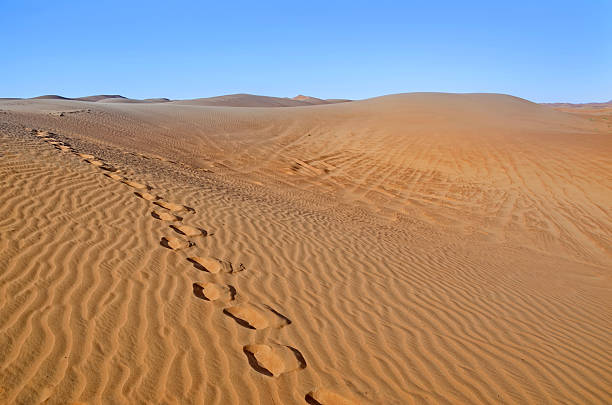human_foot_print: (243, 344, 306, 376), (223, 302, 290, 329), (187, 255, 245, 273), (193, 282, 236, 301), (160, 236, 194, 249), (151, 210, 182, 221)
